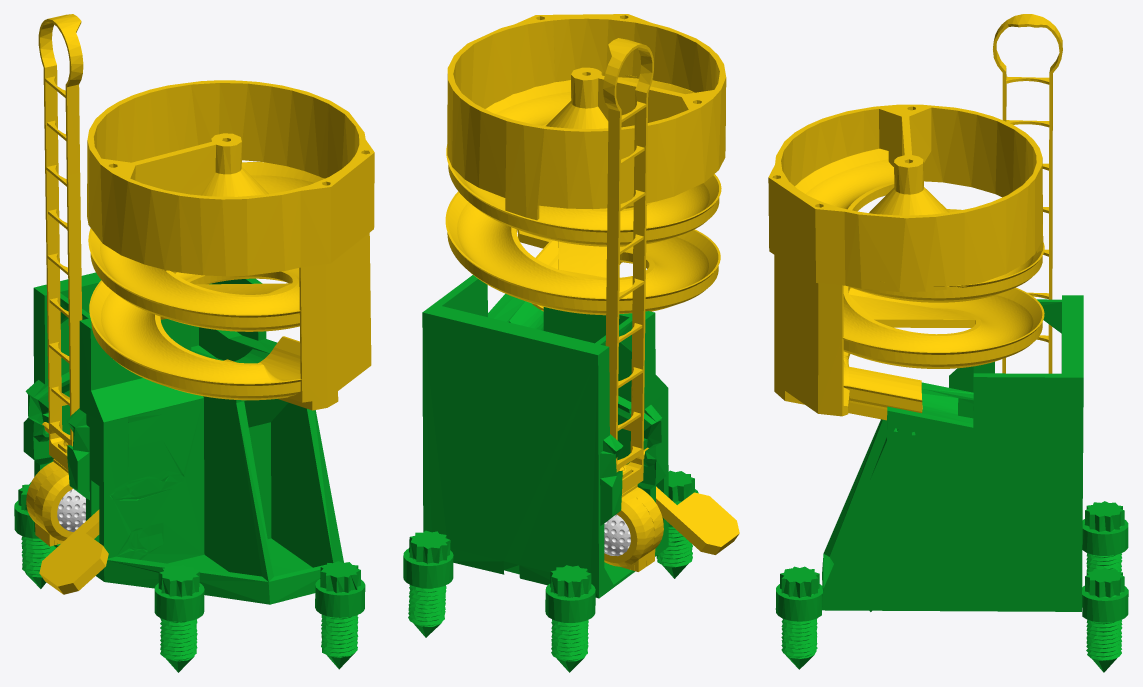
Rendered from dispenser-custom.glb.
3 views of the same model, side by side, from view 1: azimuth 30°, elevation 25°; view 2: azimuth 150°, elevation 25°; view 3: azimuth 270°, elevation 25° (orthographic). The views are drawn at different scales.
Visible parts, largest first — view 1: Assembled Golf Set.018, Assembled Golf Set.020, Assembled Golf Set.019, ball_guider.004, Assembled Golf Set.023, Assembled Golf Set.026, Assembled Golf Set.025, Assembled Golf Set.024, Assembled Golf Set.027, Assembled Golf Set.028, ball_guider.005, Assembled Golf Set.029; view 2: Assembled Golf Set.018, Assembled Golf Set.020, Assembled Golf Set.019, ball_guider.004, Assembled Golf Set.023, Assembled Golf Set.031, Assembled Golf Set.028, Assembled Golf Set.025, Assembled Golf Set.029, Assembled Golf Set.030, ball_guider.005; view 3: Assembled Golf Set.018, Assembled Golf Set.020, Assembled Golf Set.019, ball_guider.004, Assembled Golf Set.031, Assembled Golf Set.026, Assembled Golf Set.028, Assembled Golf Set.030, Assembled Golf Set.029, Assembled Golf Set.027.
Boxes of the visible parts, left/top/right/bottom form: Assembled Golf Set.018: left=23, top=272, right=343, bottom=604; Assembled Golf Set.020: left=87, top=80, right=374, bottom=276; Assembled Golf Set.019: left=88, top=162, right=371, bottom=410; ball_guider.004: left=26, top=14, right=83, bottom=546; Assembled Golf Set.023: left=39, top=509, right=108, bottom=594; Assembled Golf Set.026: left=320, top=561, right=360, bottom=669; Assembled Golf Set.025: left=158, top=565, right=199, bottom=672; Assembled Golf Set.024: left=154, top=583, right=204, bottom=621; Assembled Golf Set.027: left=315, top=578, right=365, bottom=617; Assembled Golf Set.028: left=18, top=482, right=56, bottom=588; ball_guider.005: left=57, top=488, right=85, bottom=531; Assembled Golf Set.029: left=14, top=500, right=39, bottom=538; Assembled Golf Set.018: left=422, top=275, right=668, bottom=598; Assembled Golf Set.020: left=447, top=14, right=726, bottom=220; Assembled Golf Set.019: left=445, top=72, right=721, bottom=315; ball_guider.004: left=603, top=38, right=663, bottom=571; Assembled Golf Set.023: left=656, top=486, right=739, bottom=554; Assembled Golf Set.031: left=408, top=530, right=450, bottom=637; Assembled Golf Set.028: left=550, top=565, right=591, bottom=672; Assembled Golf Set.025: left=656, top=470, right=694, bottom=578; Assembled Golf Set.029: left=545, top=584, right=595, bottom=622; Assembled Golf Set.030: left=403, top=548, right=453, bottom=588; ball_guider.005: left=604, top=514, right=630, bottom=556; Assembled Golf Set.018: left=822, top=295, right=1083, bottom=611; Assembled Golf Set.020: left=768, top=104, right=1043, bottom=291; Assembled Golf Set.019: left=774, top=148, right=1044, bottom=420; ball_guider.004: left=993, top=14, right=1062, bottom=373; Assembled Golf Set.031: left=1085, top=568, right=1124, bottom=672; Assembled Golf Set.026: left=780, top=566, right=819, bottom=669; Assembled Golf Set.028: left=1084, top=501, right=1124, bottom=571; Assembled Golf Set.030: left=1082, top=585, right=1128, bottom=622; Assembled Golf Set.029: left=1082, top=519, right=1128, bottom=555; Assembled Golf Set.027: left=775, top=584, right=822, bottom=621.
Size of the model in its own units: 108 by 221 by 124.
